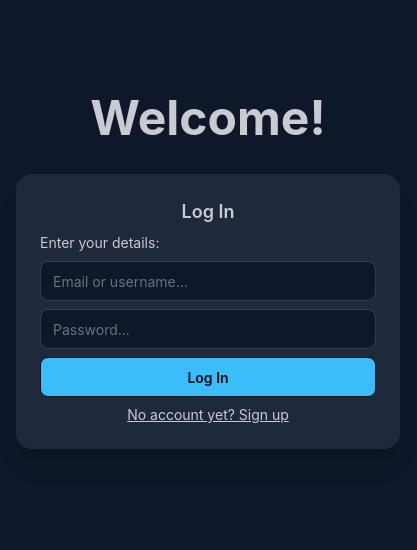
Test case: AuthPage › switches to the sign up form
This screenshot has width=417, height=550.
Click the button "No account yet? Sign up".
click(208, 415)  # box [40,405,376,425]
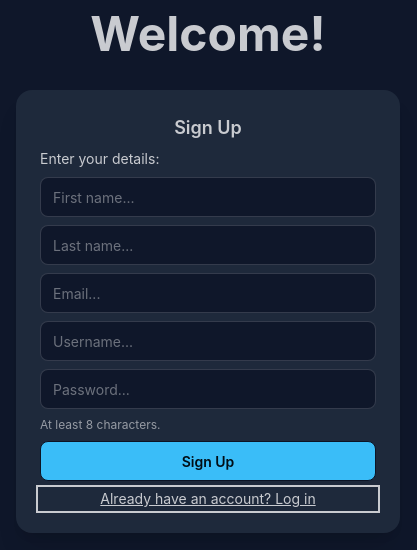
Check: the button "Sign Up" is shown, box [40,441,376,481]
Check: the field with placeholder "First name..." is shown, box [40,177,376,217]
Check: the field with placeholder "Username..." is shown, box [40,321,376,361]
